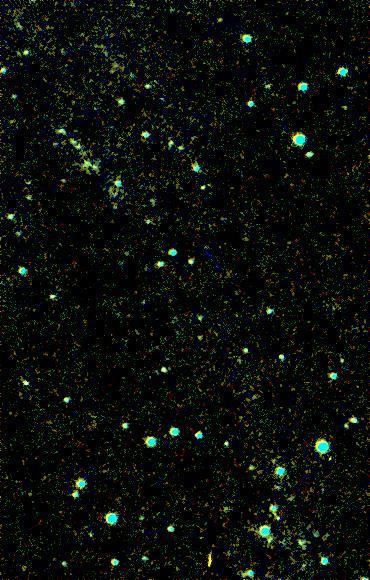star: (204, 6, 234, 36)
